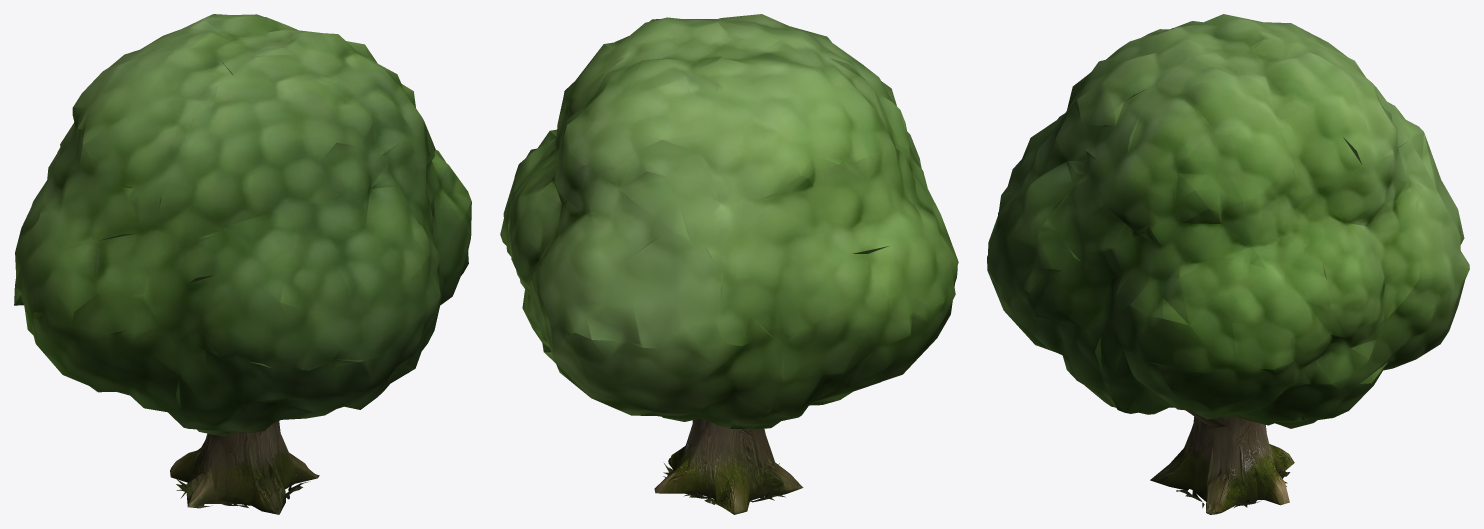
File: arvore.glb
3 views of the same model, side by side, from view 1: azimuth 30°, elevation 25°; view 2: azimuth 150°, elevation 25°; view 3: azimuth 270°, elevation 25° (orthographic).
Visible parts, largest first — view 1: arvore; view 2: arvore; view 3: arvore.
Boxes of the visible parts, bbox=[...] form: arvore: bbox=[14, 14, 471, 514]; arvore: bbox=[500, 14, 958, 514]; arvore: bbox=[987, 14, 1469, 514].
Size of the model in its own units: 5.5 by 5.49 by 5.44.
Materials: 1 (1 with a texture image).
